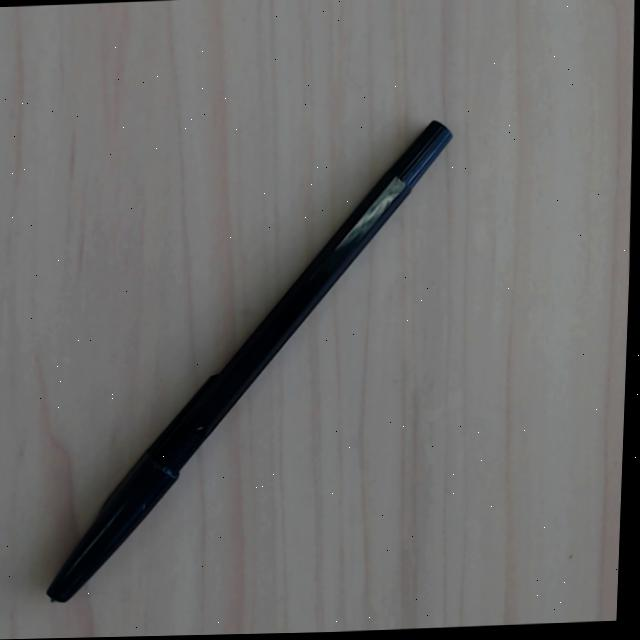Pulpen-Hitam: (32, 113, 463, 610)
